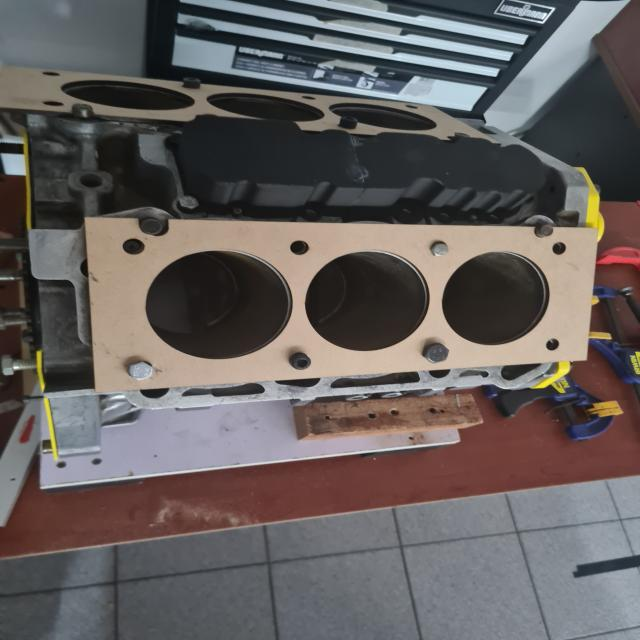vista1: (87, 217, 593, 392), (0, 65, 479, 135)
